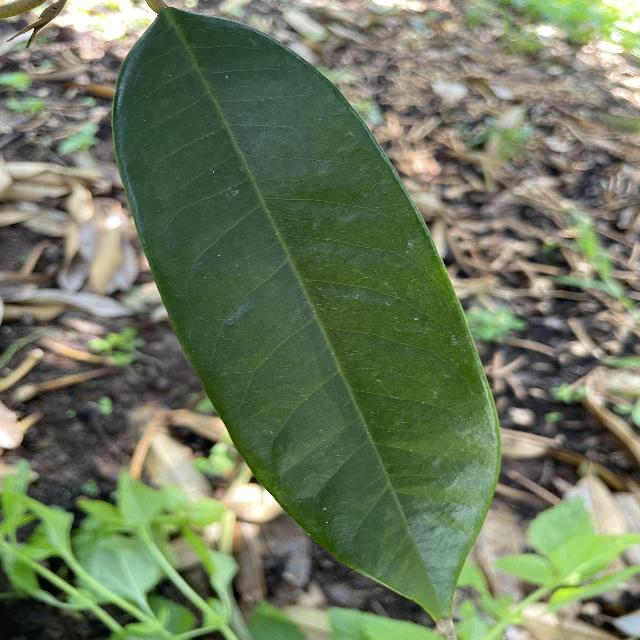No Disease: (105, 3, 522, 639)
